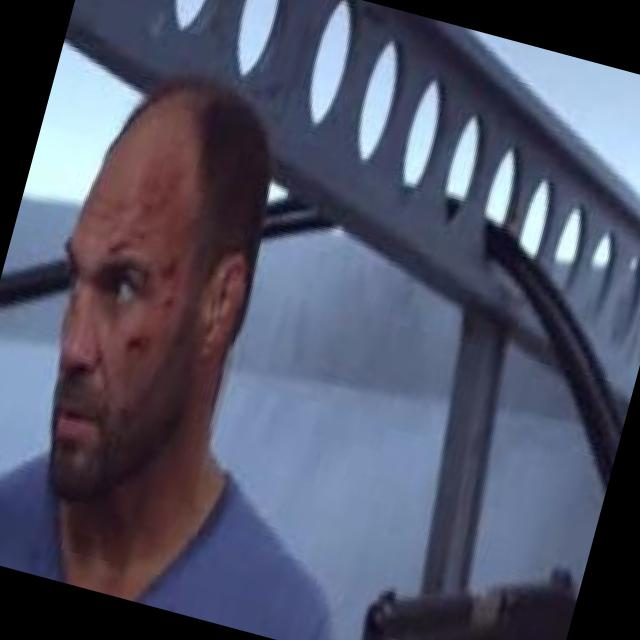Guns: (328, 479, 593, 640)
